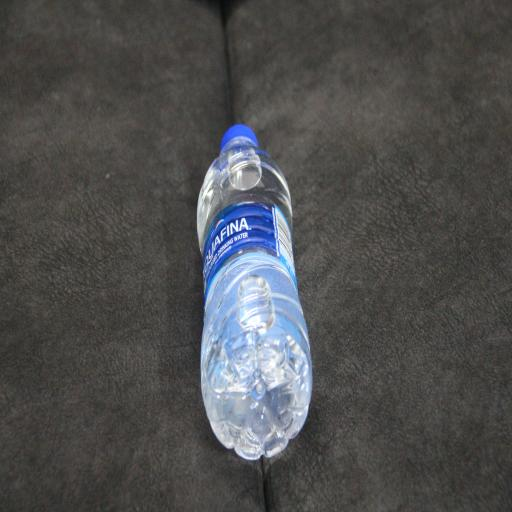Aquafina: (197, 124, 312, 460)
